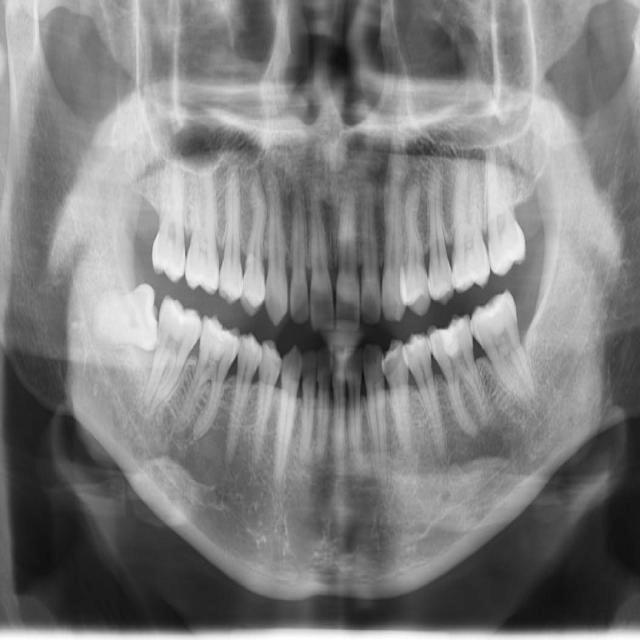impacted tooth: (92, 283, 158, 346)
